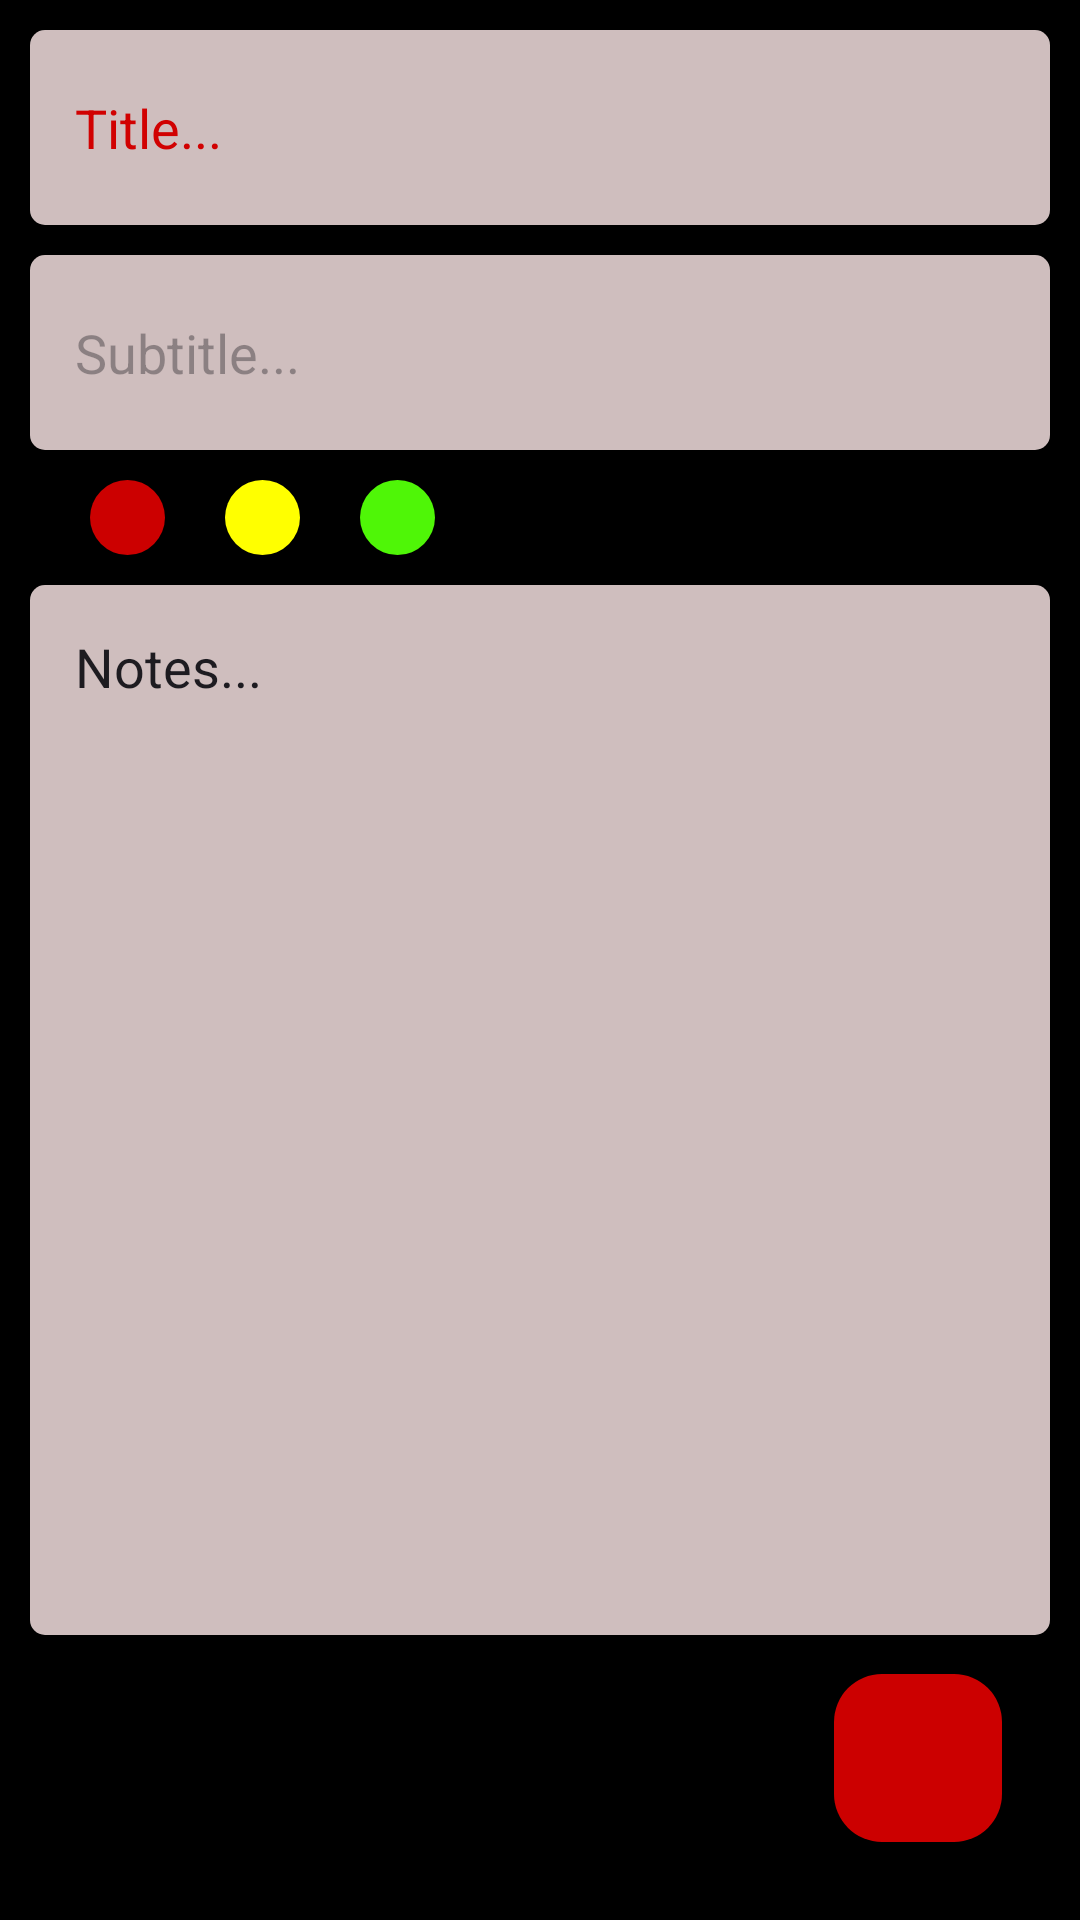

Icons on this 1080w x 1920h Android screen, each with the point to tap as [x,y]:
redcircle: [127,517]
yellowcircle: [262,517]
